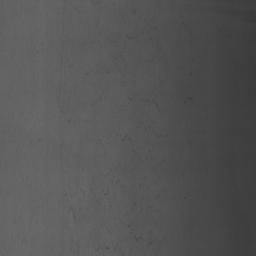Silk spot: (128, 224, 143, 242), (245, 11, 256, 22), (95, 243, 110, 251)
